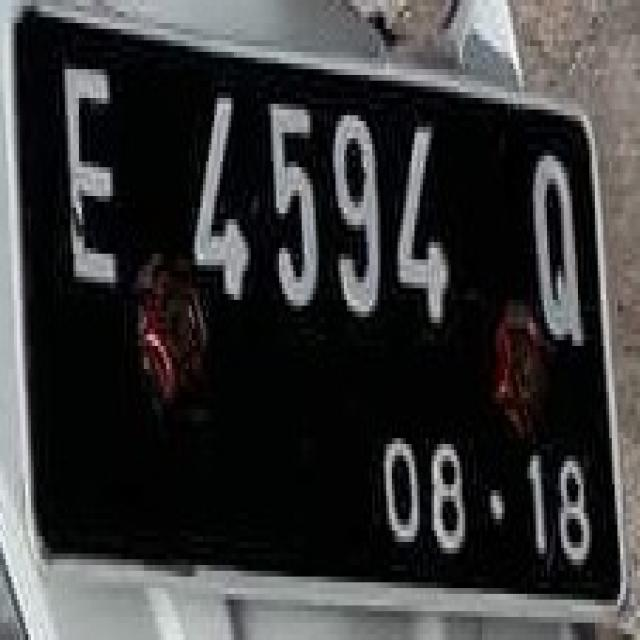plate: (11, 7, 618, 606)
